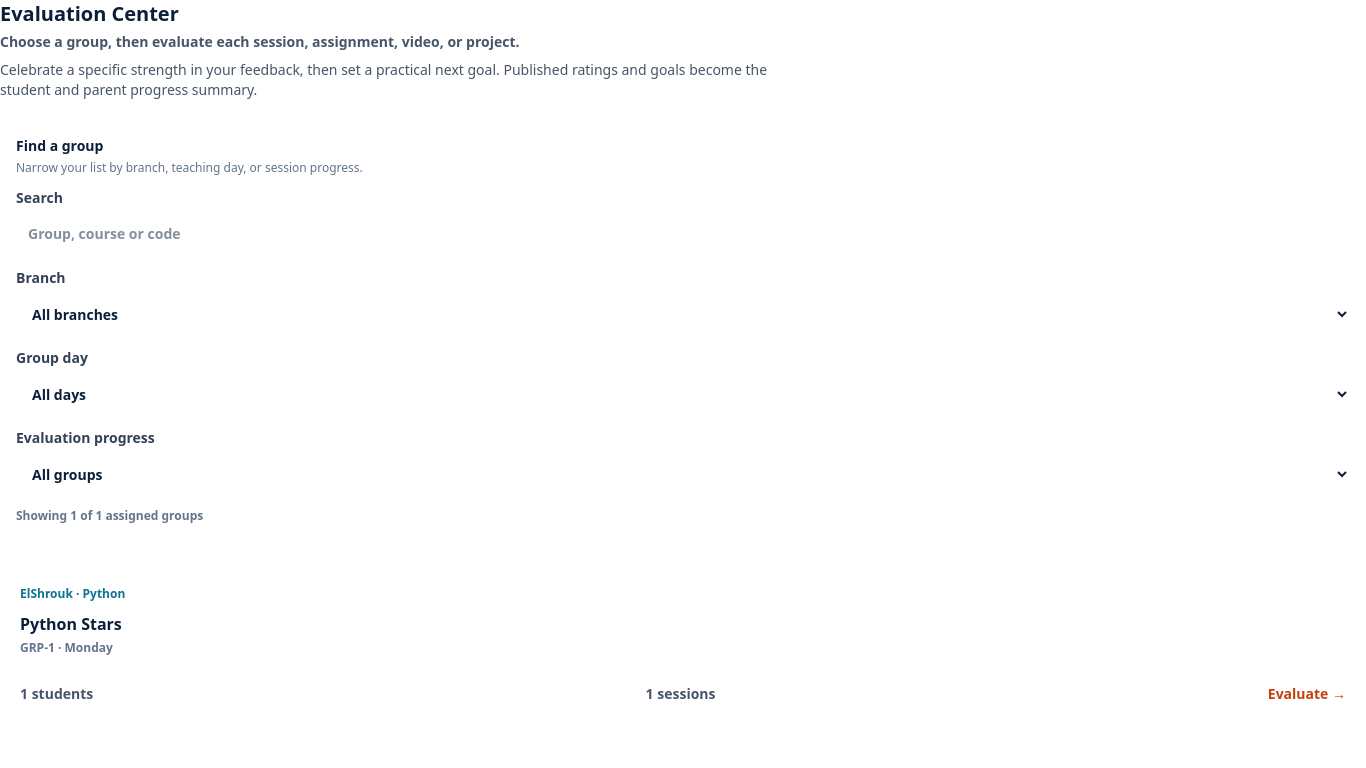
Evaluation Center › opens the group, switches tabs, and closes with Escape
Click the button "Python Stars" at {"x": 683, "y": 642}, box [0, 560, 1365, 724]
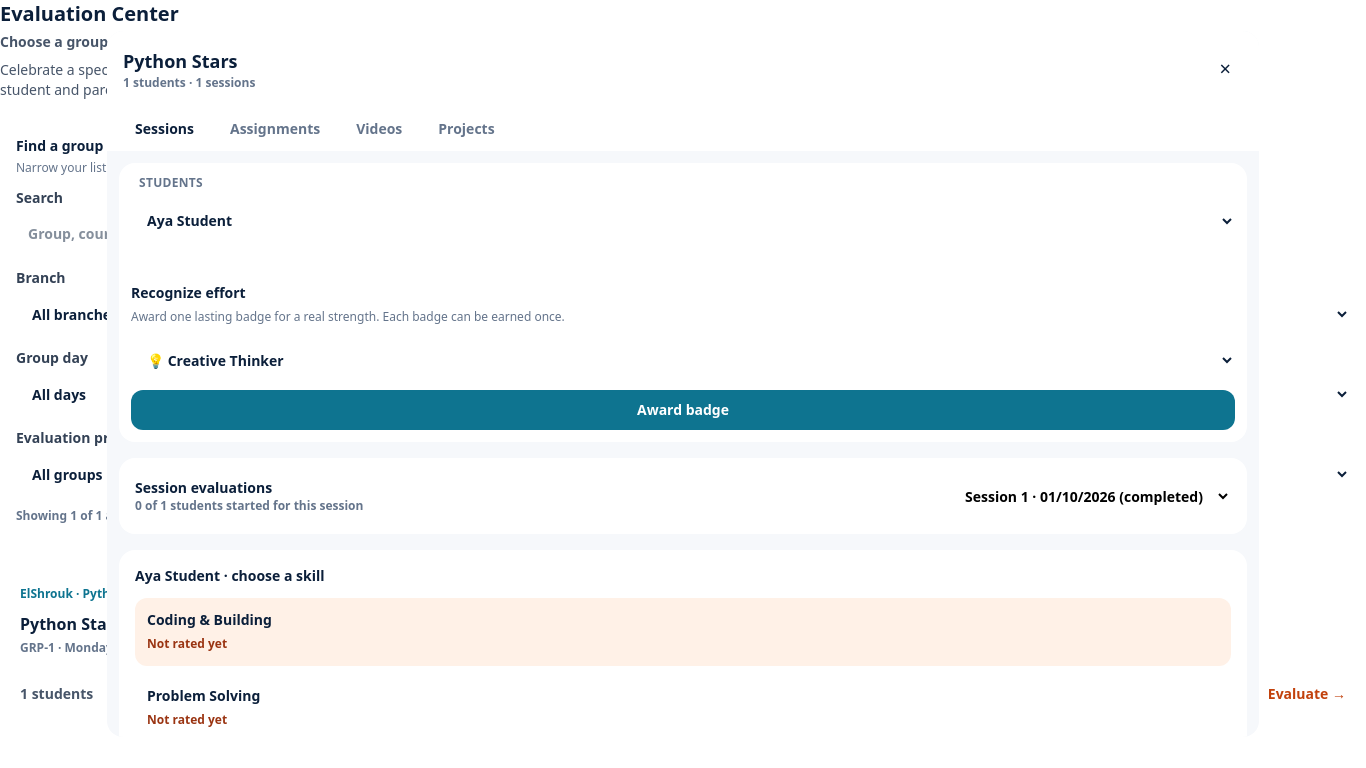
expect the dialog named "Python Stars evaluations" is shown: met
Click the button "Assignments" at {"x": 275, "y": 129}, box [214, 107, 336, 151]
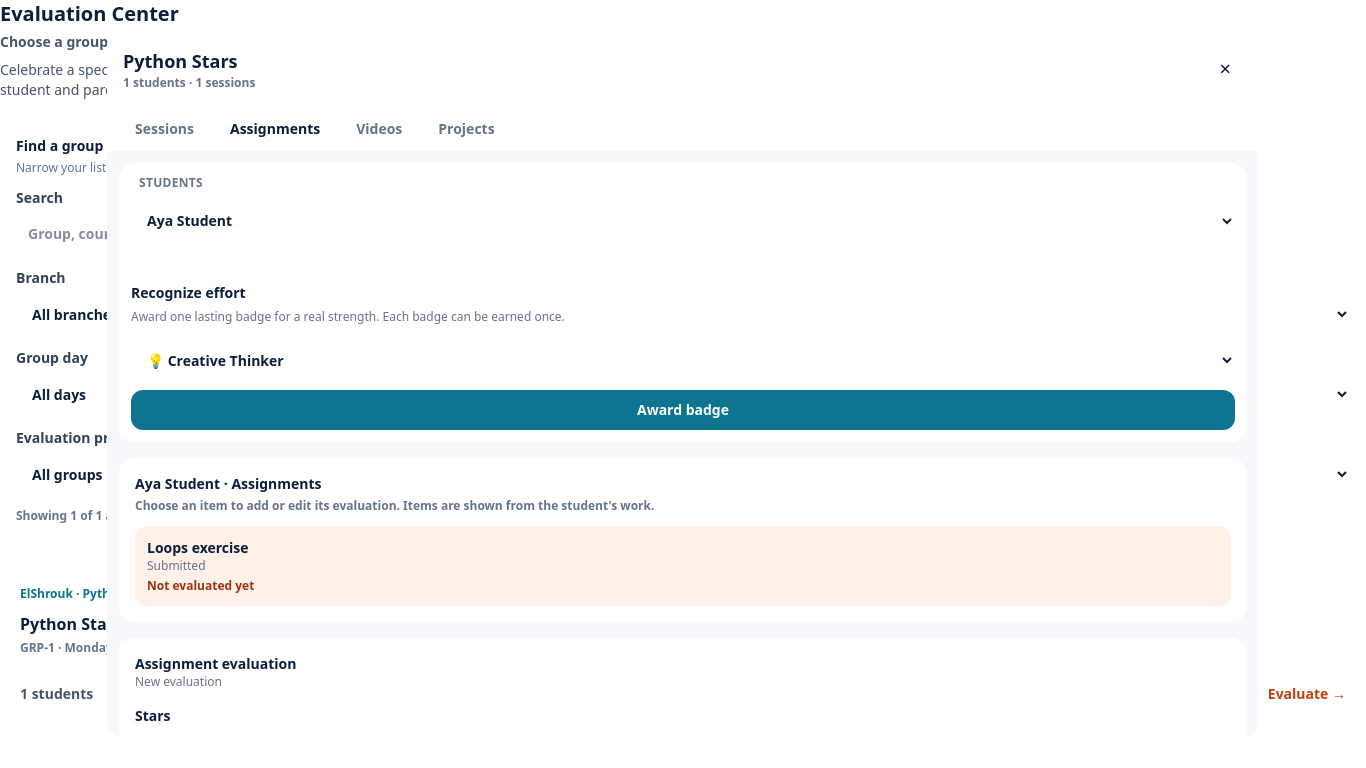
expect the text "Loops exercise" is shown: met, box [147, 538, 249, 557]
Press Escape
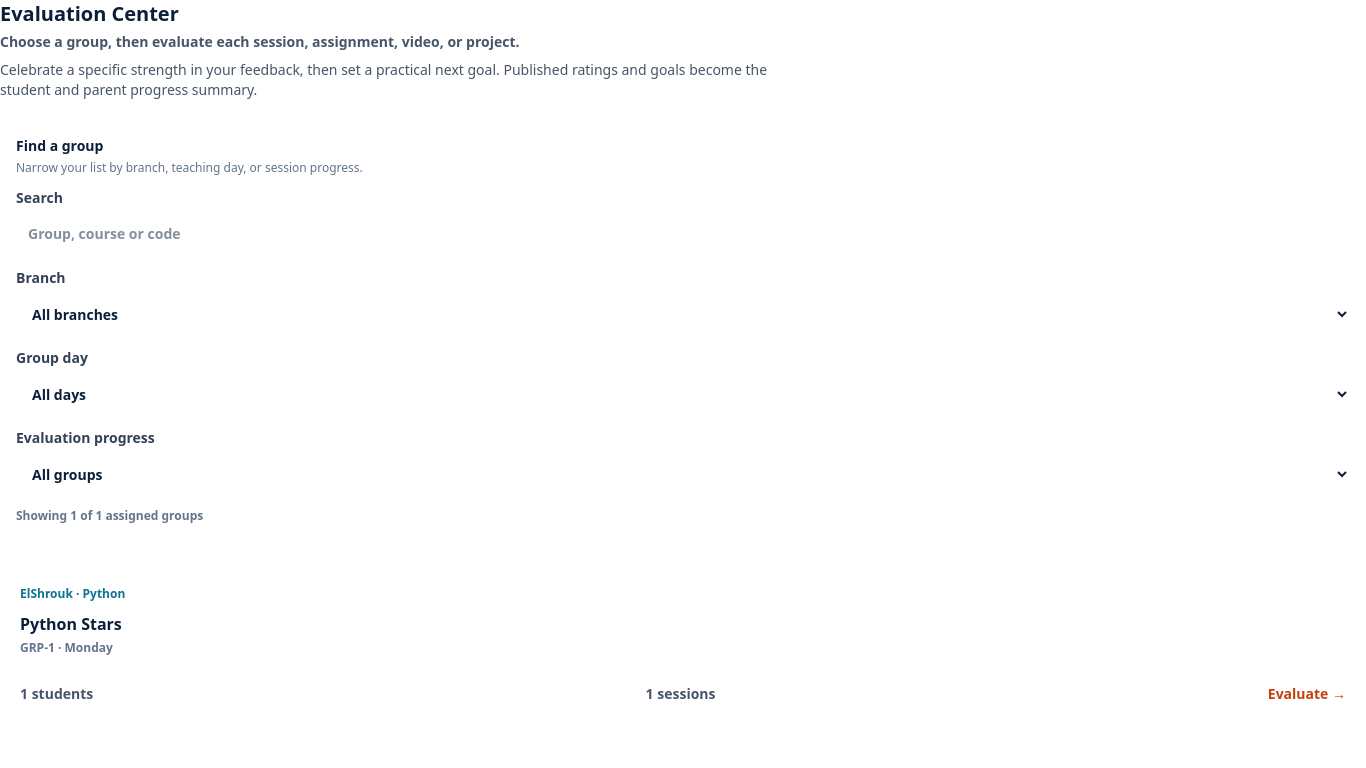
expect the dialog is gone: met
